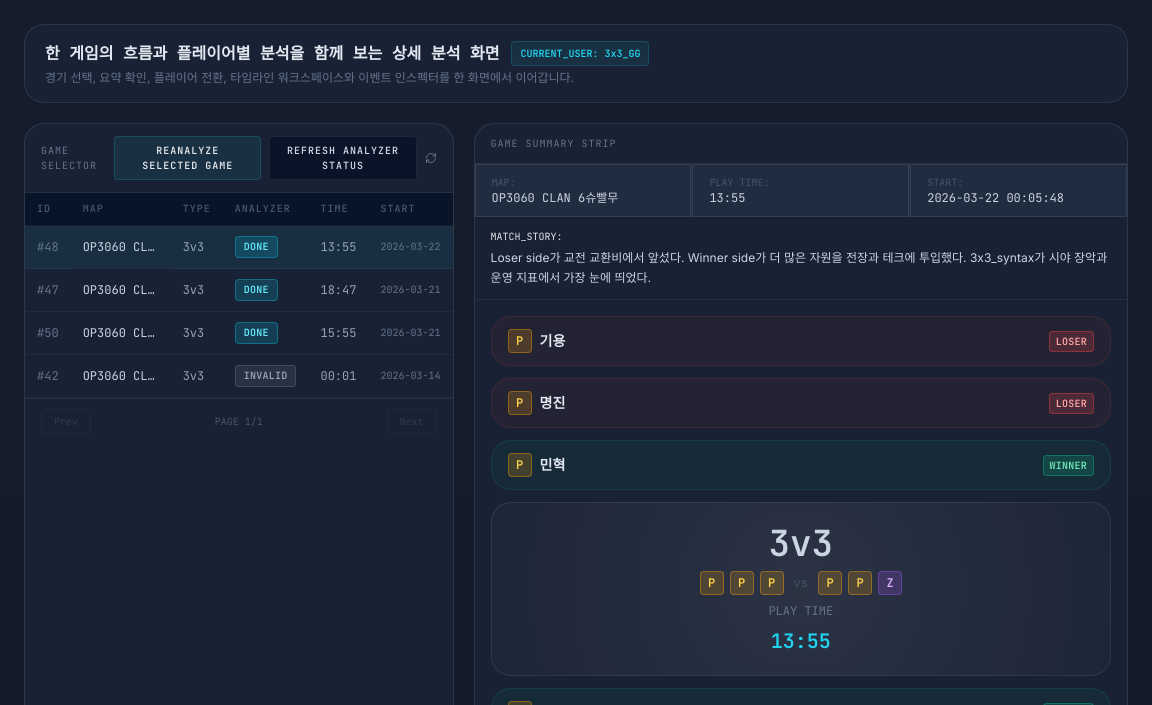
analyzer page › lets the user manually reanalyze the selected game and shows status feedback
Click the button "REANALYZE SELECTED GAME" at point(188, 158), box top-left (114, 136), bottom-right (261, 180)
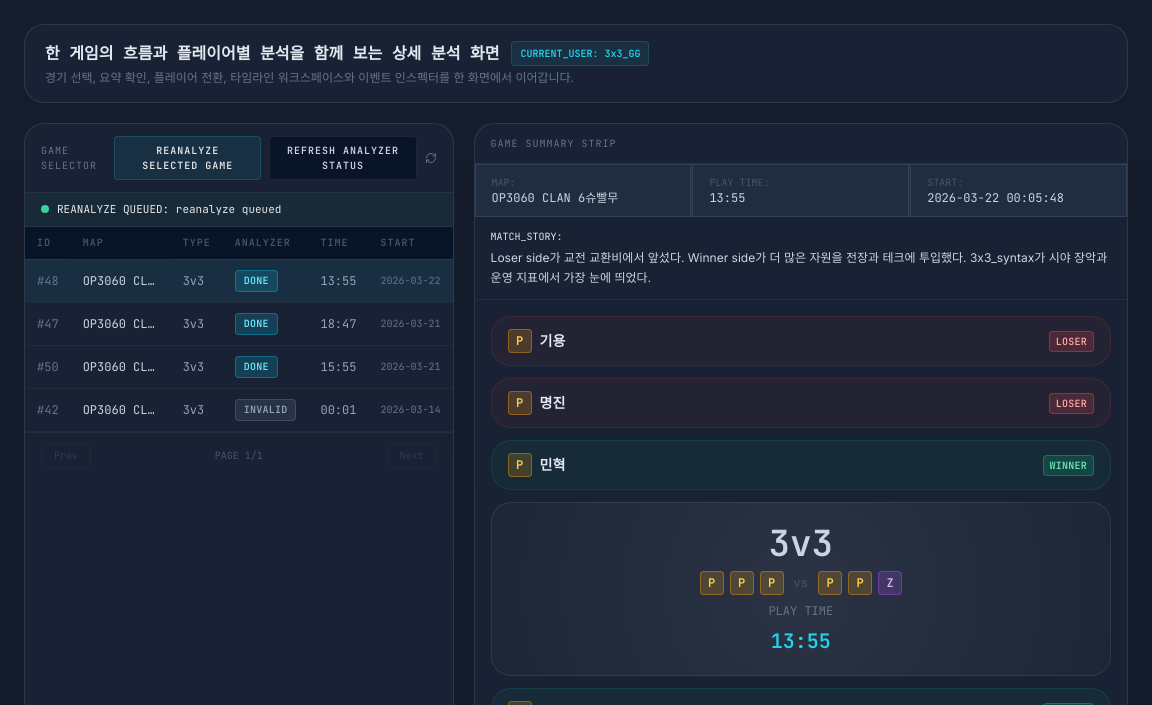
Check: the text "REANALYZE QUEUED: reanalyze queued" is shown, box top-left (57, 201), bottom-right (281, 218)
